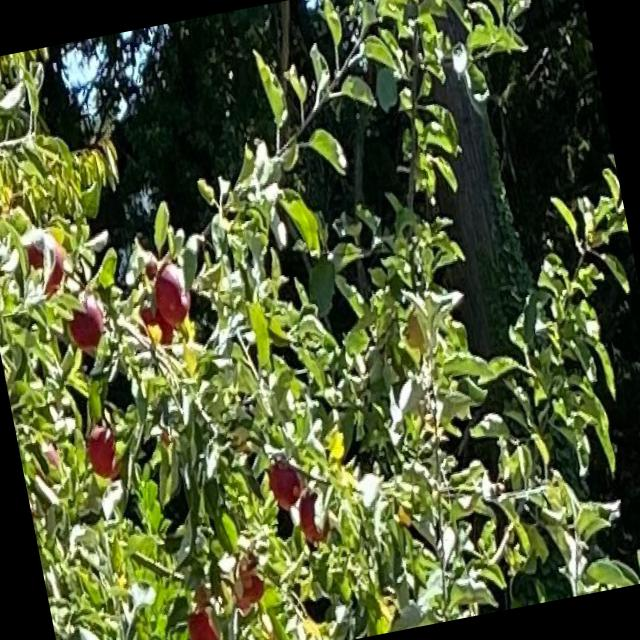Apples: (22, 228, 68, 294), (151, 260, 192, 326), (136, 293, 176, 352), (64, 294, 106, 350), (84, 420, 122, 481), (267, 458, 304, 512), (229, 554, 266, 608), (296, 488, 332, 543), (184, 602, 221, 639)
